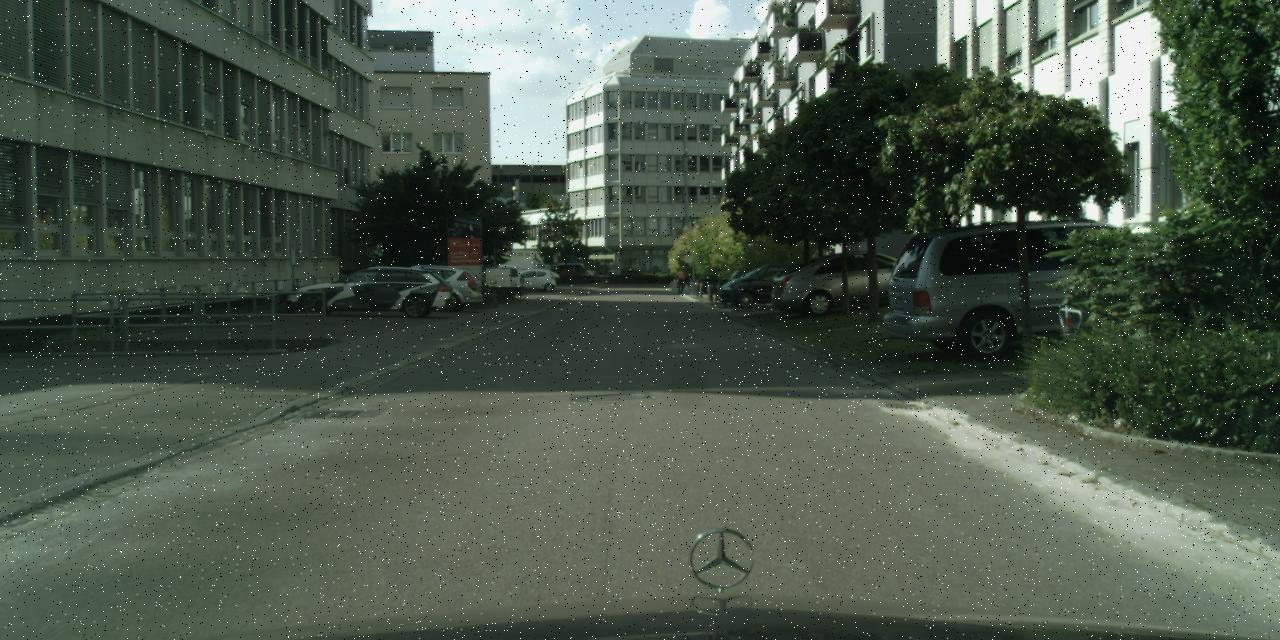ped: (676, 268, 686, 292)
